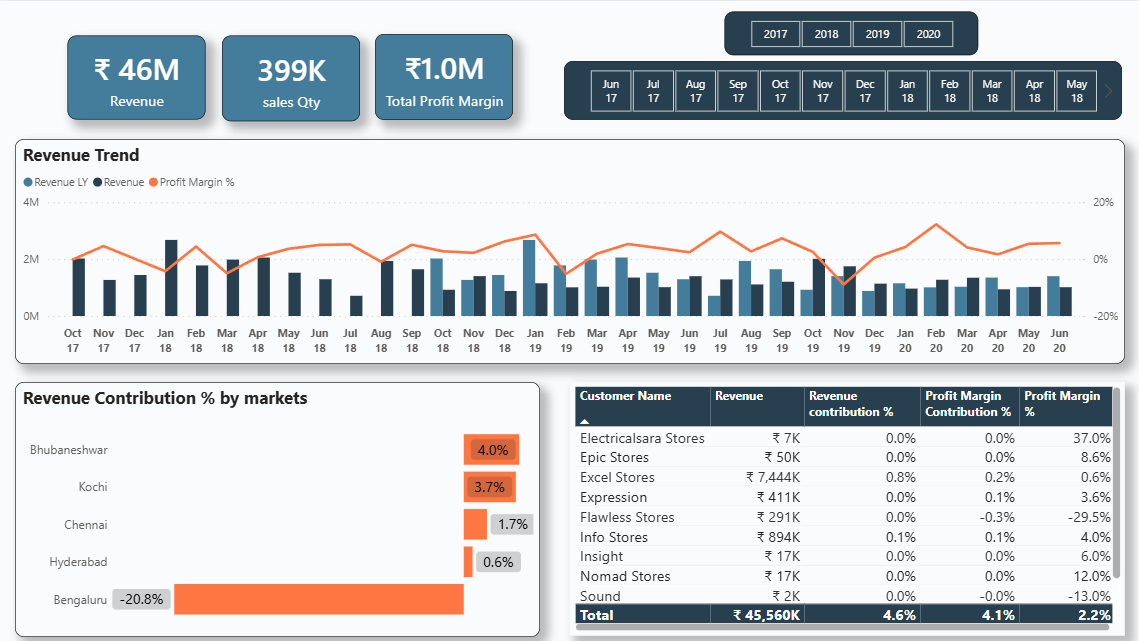

What the dashboard file says about the page in this screenshot:
{"tool":"powerbi","page":{"name":"Performance Insights","canvas":[1280,720],"ordinal":2},"visuals":[{"type":"card","fields":{"Values":["Base Measures 2.Revenue"]},"box":[81.7,38.3,153,93.3],"z":6000},{"type":"barChart","title":"Revenue Contribution % by markets","fields":{"Category":["sales markets.zone","sales markets.markets_name"],"Y":["Base Measures 2.Profit Margin %"]},"box":[23.3,423.3,583.3,283.3],"z":8000},{"type":"lineClusteredColumnComboChart","title":"Revenue Trend","fields":{"Category":["sales date.cy_date"],"Y":["Base Measures 2.Revenue LY","Base Measures 2.Revenue"],"Y2":["Base Measures 2.Profit Margin %"]},"box":[23.3,153.3,1233.3,250],"z":10000},{"type":"tableEx","title":"Top 5 customer","fields":{"Values":["sales customers.custmer_name","Base Measures 2.Revenue","Base Measures 2.Revenue contribution %","Base Measures 2.Profit Margin Contribution %","Base Measures 2.Profit Margin %"]},"box":[640,423.3,616.7,281.7],"z":12000},{"type":"slicer","fields":{"Values":["sales date.year"]},"box":[811.7,11.7,281.7,48.3],"z":14000},{"type":"slicer","fields":{"Values":["sales date.cy_date"]},"box":[633.3,66.7,620,65],"z":16000},{"type":"card","fields":{"Values":["Base Measures 2.sales Qty"]},"box":[253.3,38.3,153.3,95],"z":20000},{"type":"card","fields":{"Values":["Base Measures 2.Total Profit Margin"]},"box":[423.3,36.7,153.3,95],"z":21000}]}

Visuals, with their boxes in screenshot pixels (x1, y1, x2, y2), scaled from the page's 1280x720 canvas onto the 1139x641 screenshot:
card - Base Measures 2.Revenue: Rect(73, 34, 209, 117)
"Revenue Contribution % by markets" barChart: Rect(21, 377, 540, 629)
"Revenue Trend" lineClusteredColumnComboChart: Rect(21, 136, 1118, 359)
"Top 5 customer" tableEx: Rect(570, 377, 1118, 628)
slicer - sales date.year: Rect(722, 10, 973, 53)
slicer - sales date.cy_date: Rect(564, 59, 1115, 117)
card - Base Measures 2.sales Qty: Rect(225, 34, 362, 119)
card - Base Measures 2.Total Profit Margin: Rect(377, 33, 513, 117)
